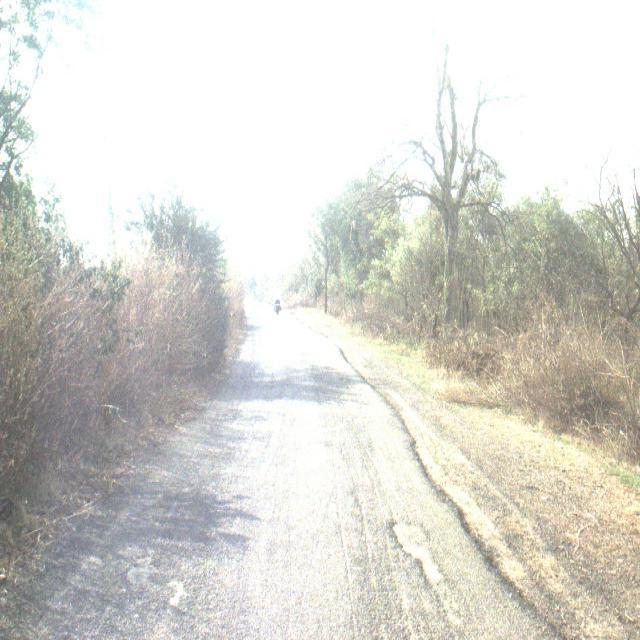Pothole: (116, 546, 204, 640), (384, 497, 434, 637)
